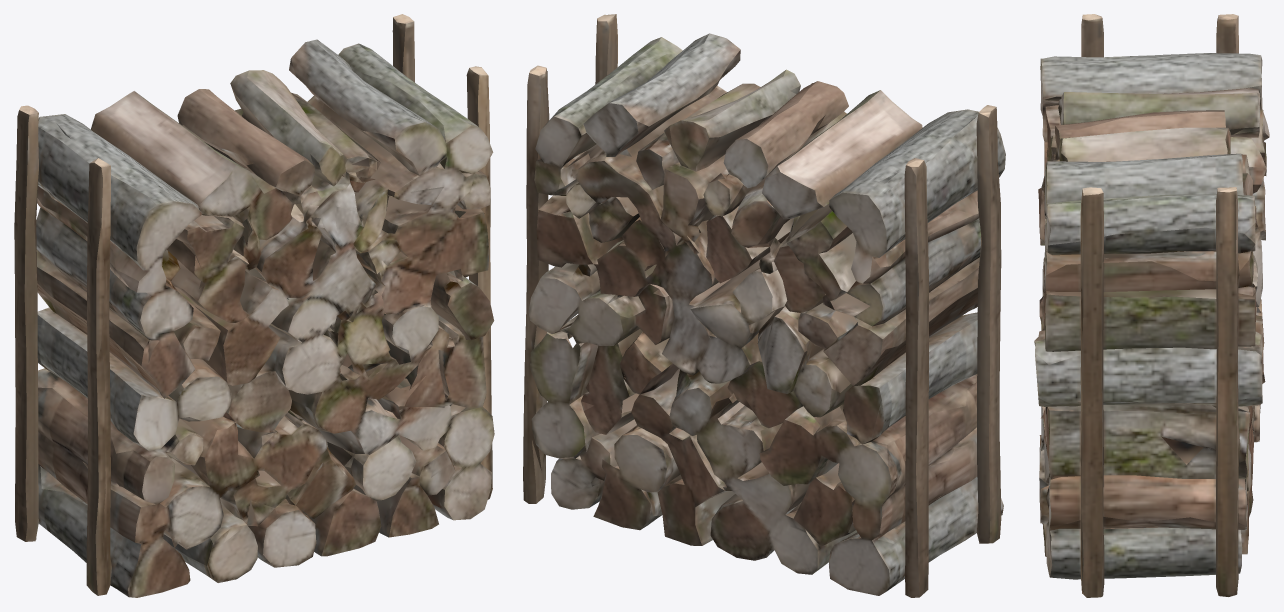
The model's file is woodpile.glb.
3 views of the same model, side by side, from view 1: azimuth 30°, elevation 25°; view 2: azimuth 150°, elevation 25°; view 3: azimuth 270°, elevation 25° (orthographic). The views are drawn at different scales.
Parts seen in each view (by area): view 1: geometry_0; view 2: geometry_0; view 3: geometry_0.
Part boxes in pixels (box(x1,y1,x2,y2)): geometry_0: box(14, 14, 494, 597); geometry_0: box(523, 14, 1005, 597); geometry_0: box(1034, 14, 1269, 597).
Size of the model in its own units: 1 by 1.03 by 0.5436.
1 material, 1 textured.
